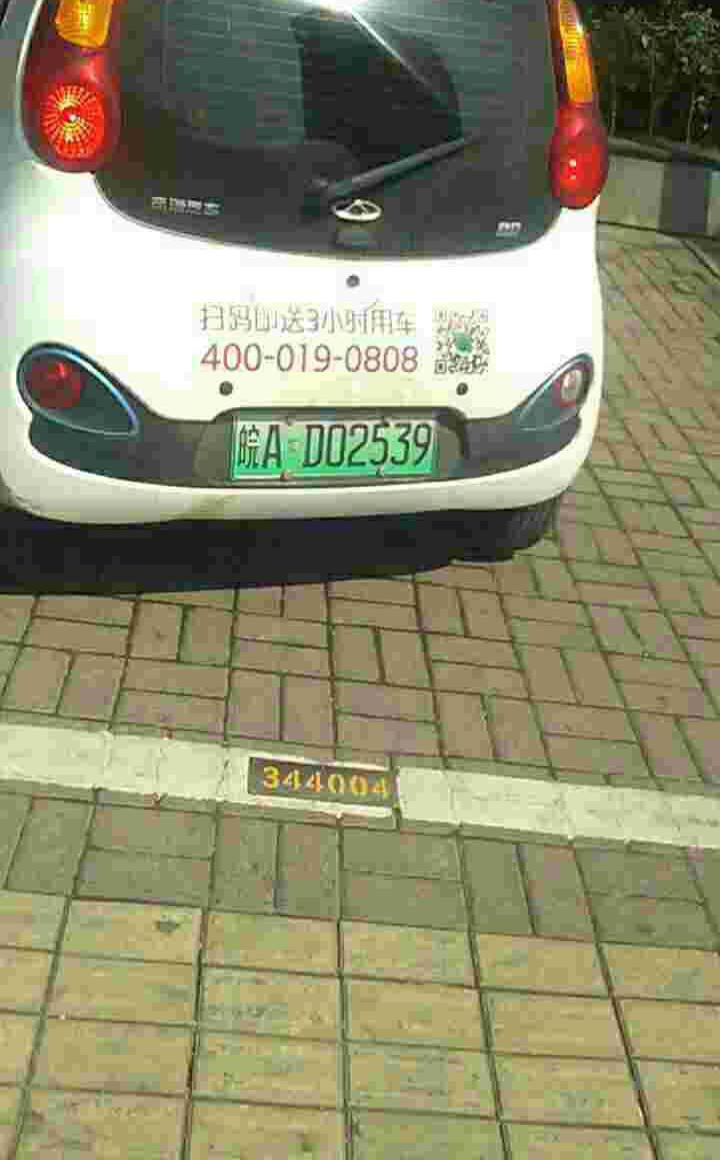car: (231, 415, 443, 473)
